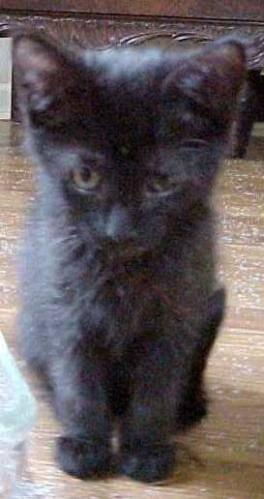cat: (14, 28, 257, 481)
